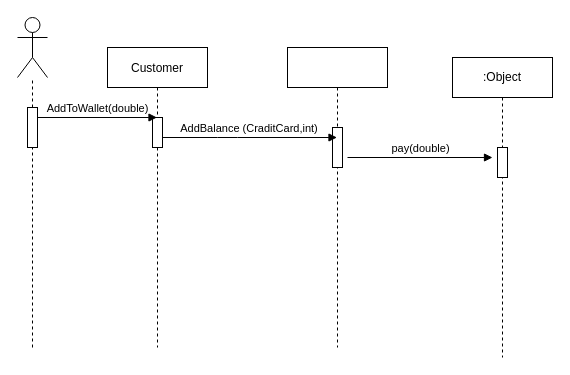
Image size: 570x375. Some labels were removed from this diagram. Here are the shapes that lost their labels. From the top down, the centre of each, then its label:
the point at 32,47: Actor
the point at 337,197: Wallet
